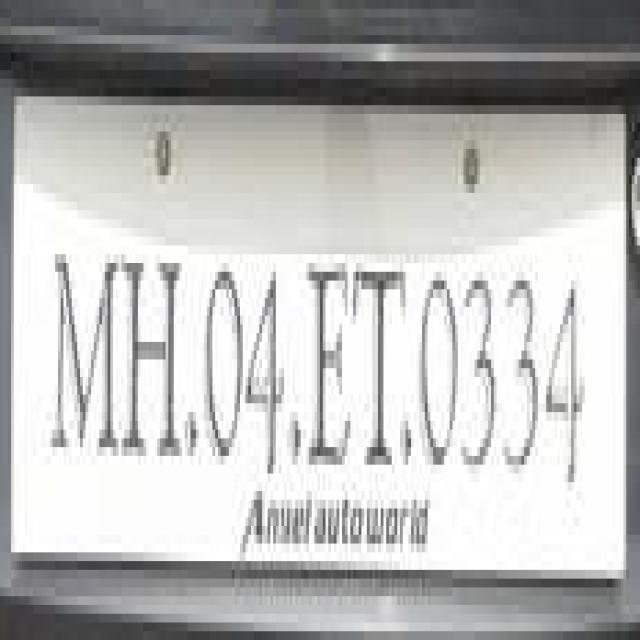license_plate: (6, 228, 610, 579)
